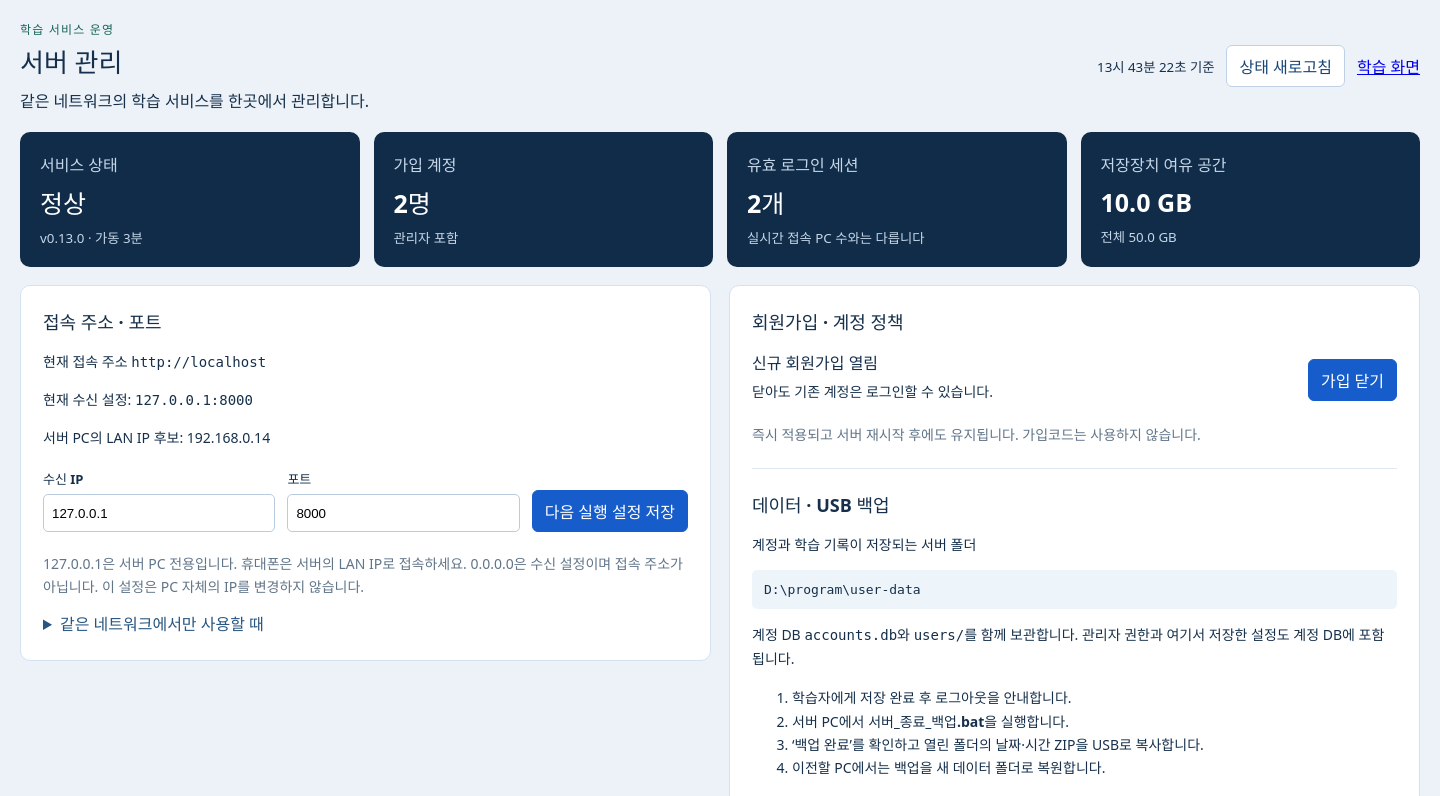
Scenario: clearly marks saved network settings as pending restart without changing live origin
Step 1. Replace the text in the field labelled "수신 IP" with "192.168.0.14" → (159, 513), box [43,494,275,532]
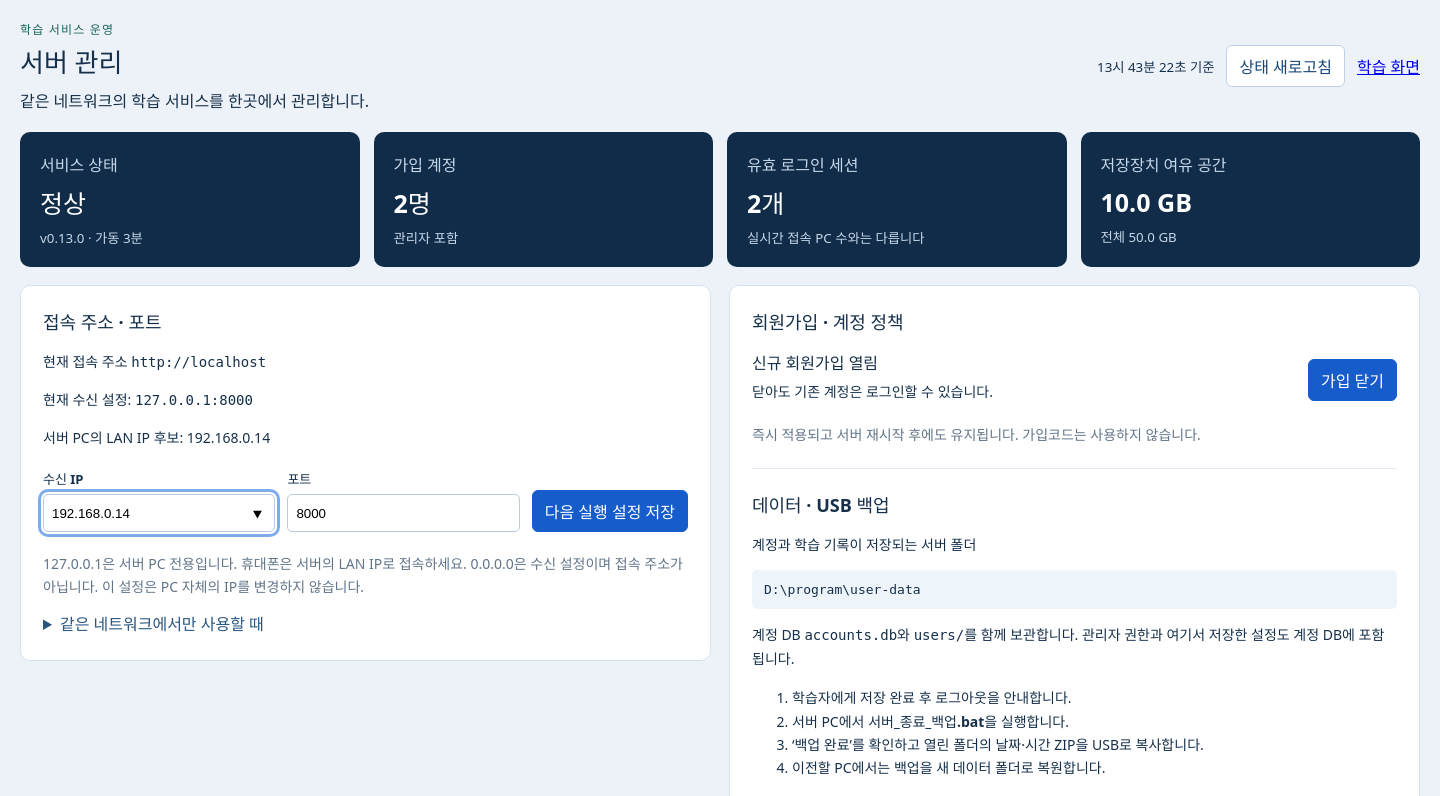
Step 2. Replace the text in the number field labelled "포트" with "8017" → (404, 513), box [287,494,520,532]
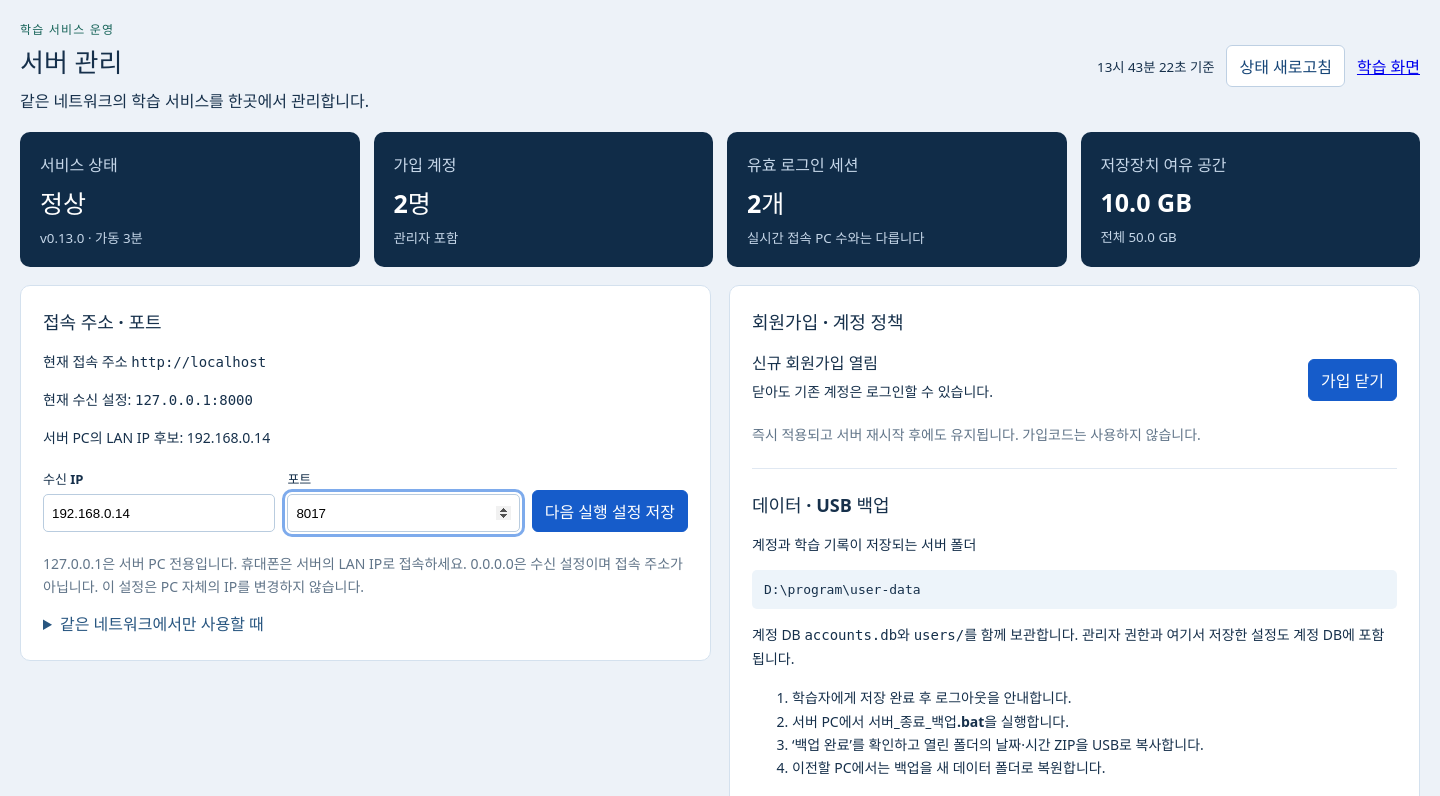
Step 3. Click the button "다음 실행 설정 저장" → (610, 511), box [532,490,688,532]
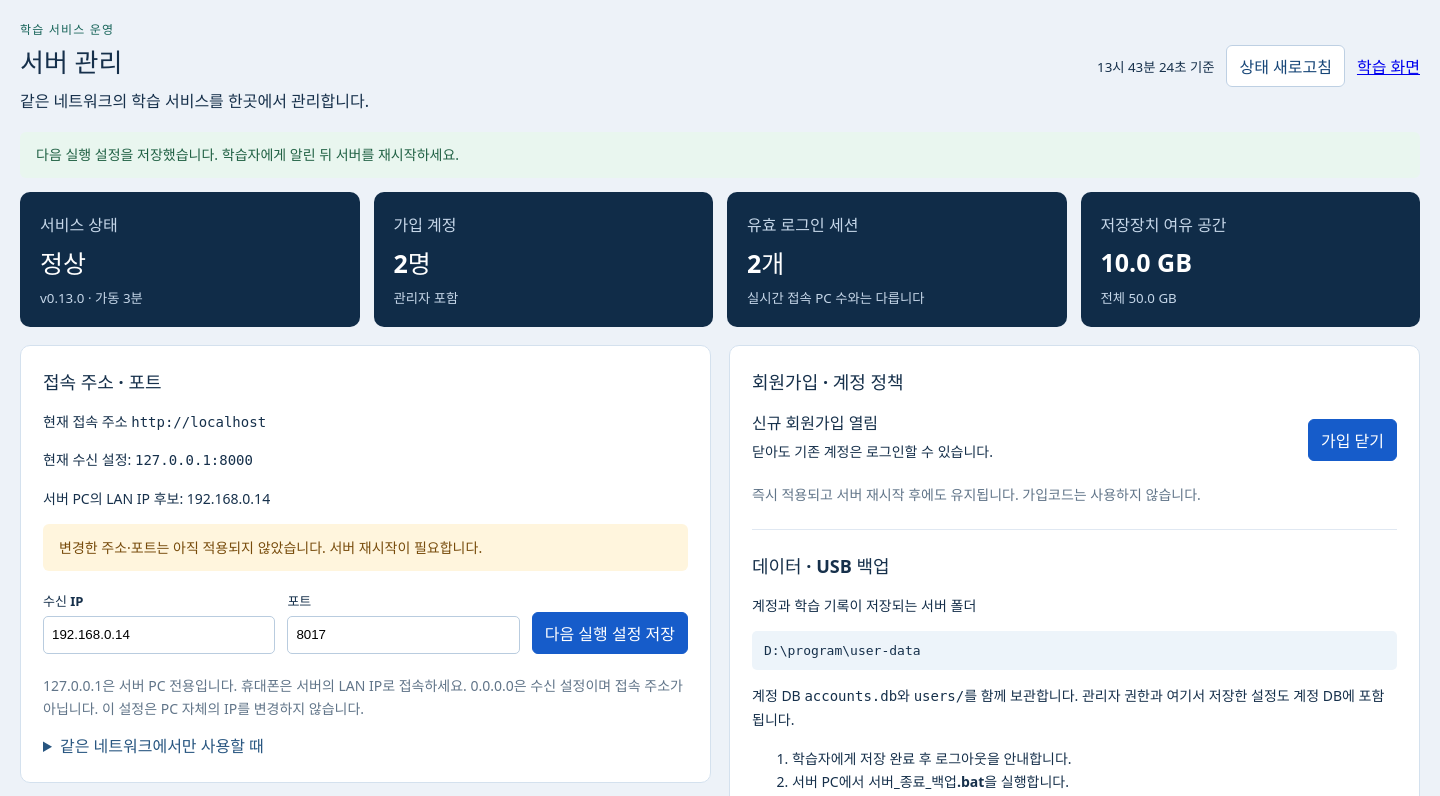
Expected: the text "127.0.0.1:8000" is shown, [135,452,253,468]
Result: the text "변경한 주소·포트는 아직 적용되지 않았습니다. 서버 재시작이 필요합니다." is shown at [43,524,688,571]
